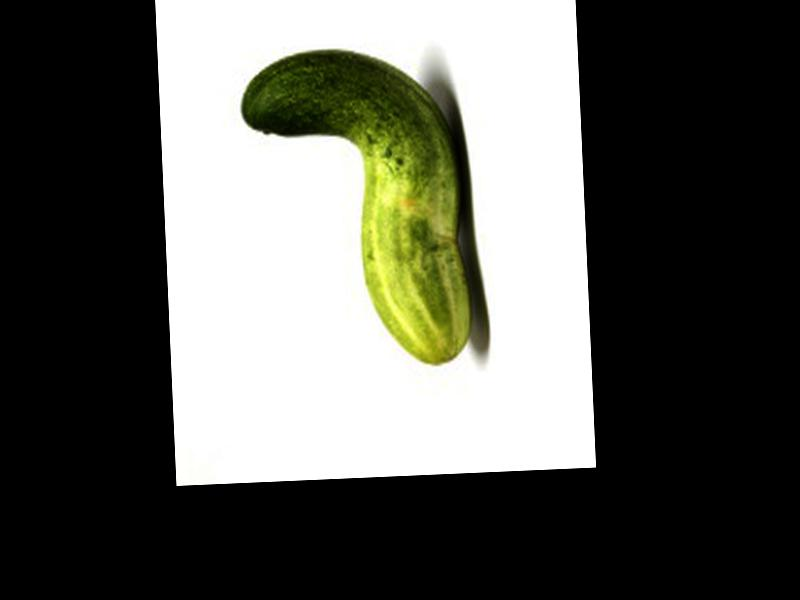Cucumber: (239, 43, 475, 373)
